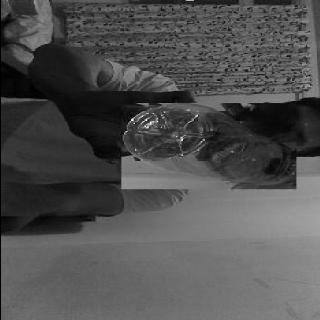plastic_bottles: (120, 103, 296, 189)
